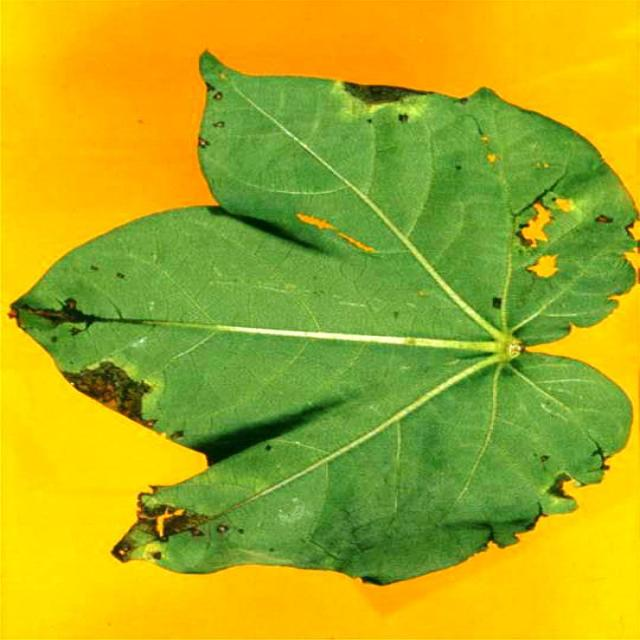Bacterial Blight: (2, 295, 259, 470)
